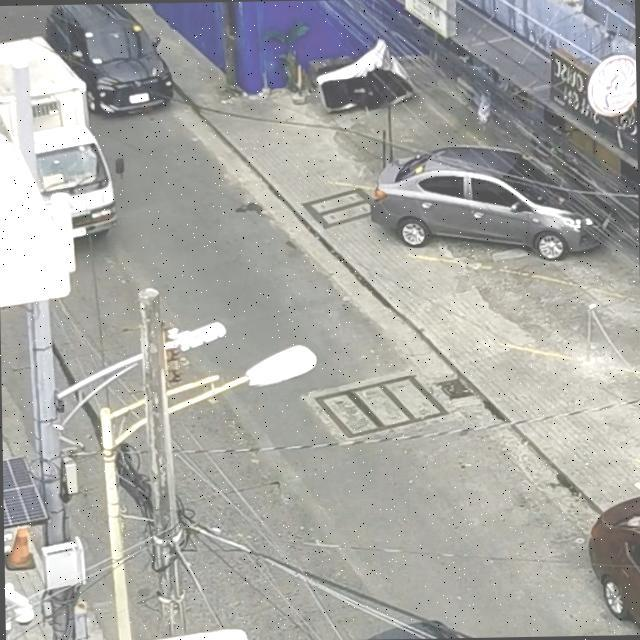Truck: (0, 12, 110, 243)
